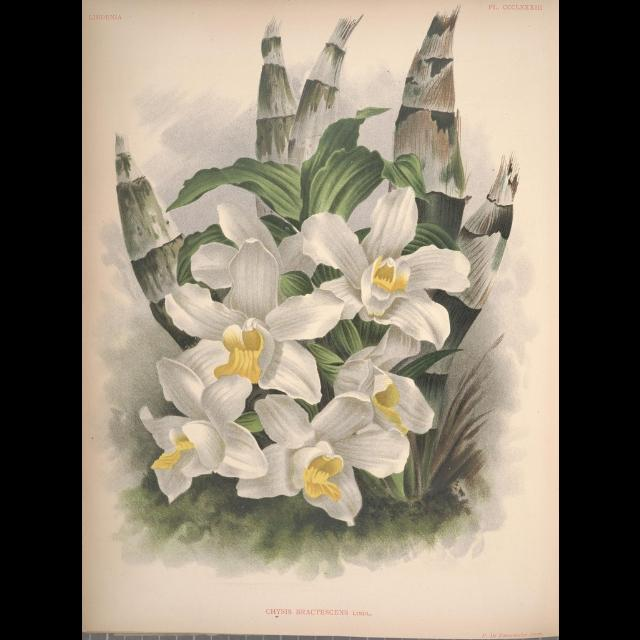Flower: (173, 233, 345, 407), (298, 186, 468, 348), (238, 389, 410, 525), (137, 352, 263, 502), (330, 323, 438, 437), (190, 202, 320, 294)
